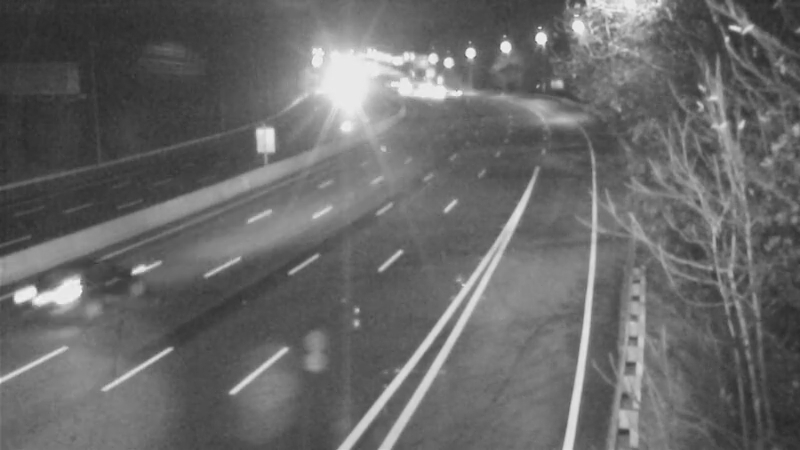vehicle: (19, 251, 99, 331), (381, 63, 431, 113), (397, 65, 447, 115), (424, 66, 474, 116)
